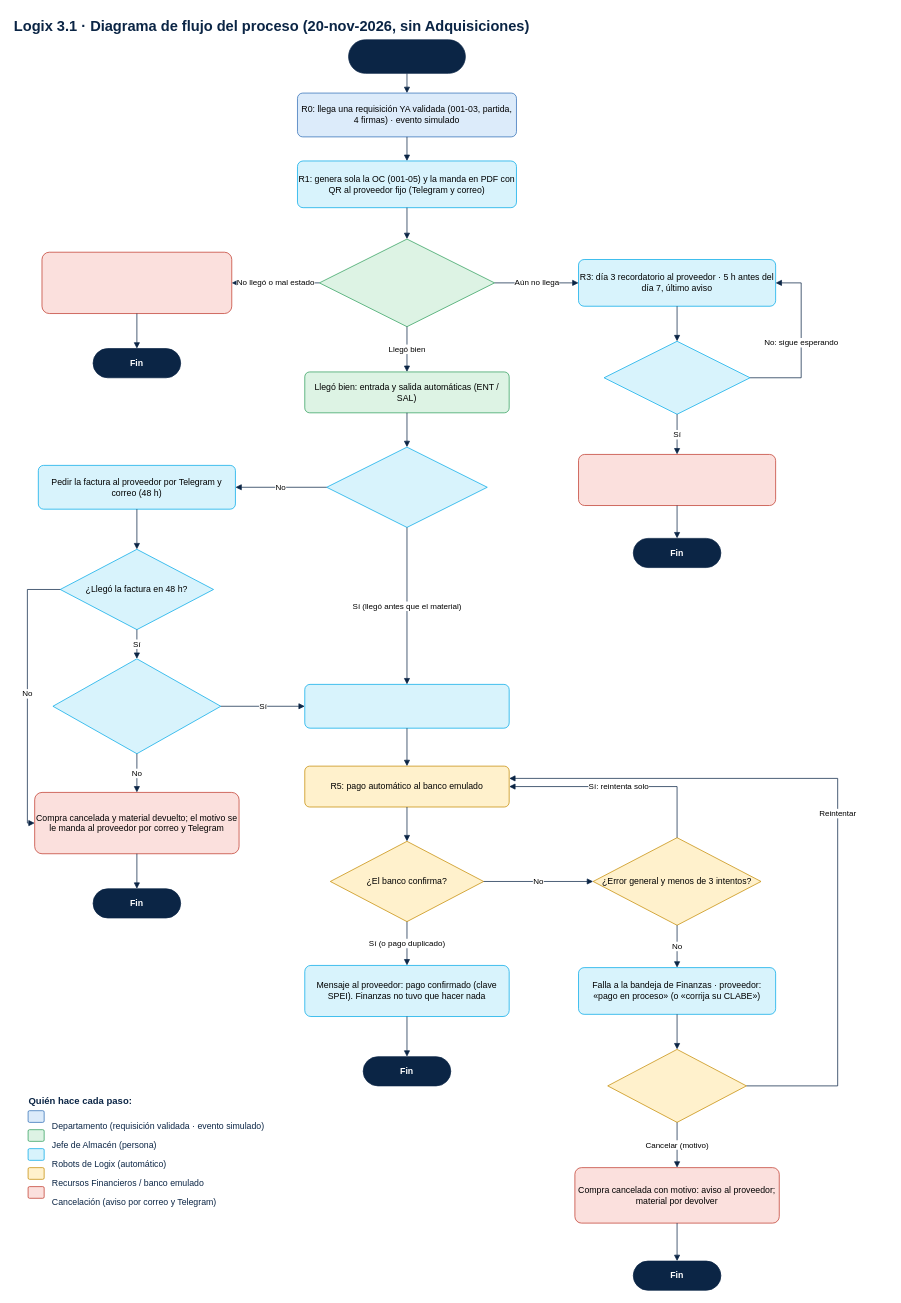
Some shapes in this 901 by 1303 pixel diagram are drawn without their labels. The shapes that lost their labels are listed below. From the top down, each one's box as (x1, y1, x2, y2) in pixels, then its label:
(348, 39, 465, 73): Inicio
(41, 251, 232, 314): Devolución: el jefe escribe la razón → compra cancelada; aviso al proveedor
(319, 238, 495, 327): Jefe de Almacén compara lo que llegó con lo aceptado (máx. 7 días)
(603, 341, 750, 414): ¿Ya pasaron 7 días?
(326, 446, 487, 527): ¿Ya hay factura válida?
(578, 454, 776, 506): Compra cancelada: el material no llegó; aviso al proveedor
(52, 658, 221, 754): R2: ¿la factura es válida? (importe, RFC, UUID, tipo)
(304, 684, 509, 728): R4: expediente PDF con SHA-256 llega a Recursos Financieros
(607, 1049, 746, 1122): Finanzas decide
